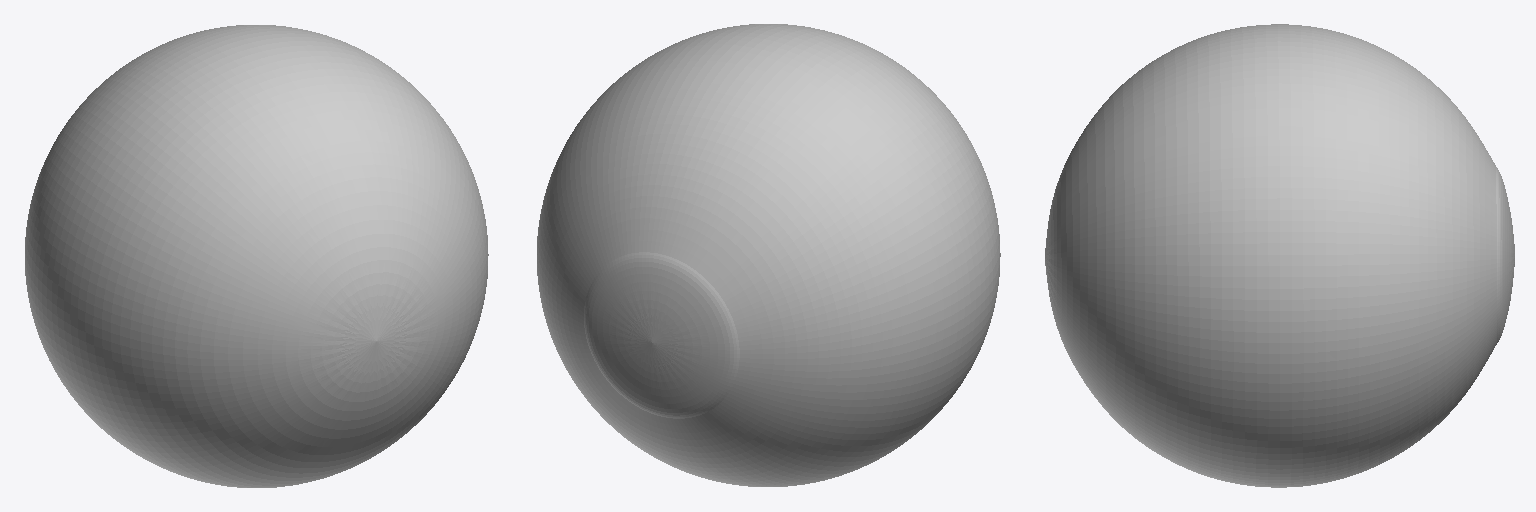
The model's file is eyeball.obj.
3 views of the same model, side by side, from view 1: azimuth 30°, elevation 25°; view 2: azimuth 150°, elevation 25°; view 3: azimuth 270°, elevation 25° (orthographic).
Parts seen in each view (by area): view 1: eyeball_1_eye_1; view 2: eyeball_1_eye_1, eyeball_1.003_eye_1.003; view 3: eyeball_1_eye_1, eyeball_1.003_eye_1.003.
Boxes of the visible parts, x1=… form: eyeball_1_eye_1: x1=25, y1=25, x2=488, y2=487; eyeball_1_eye_1: x1=537, y1=24, x2=1000, y2=486; eyeball_1.003_eye_1.003: x1=584, y1=252, x2=739, y2=418; eyeball_1_eye_1: x1=1045, y1=24, x2=1496, y2=487; eyeball_1.003_eye_1.003: x1=1496, y1=167, x2=1514, y2=344.
Size of the model in its own units: 3.86 by 3.86 by 3.92.